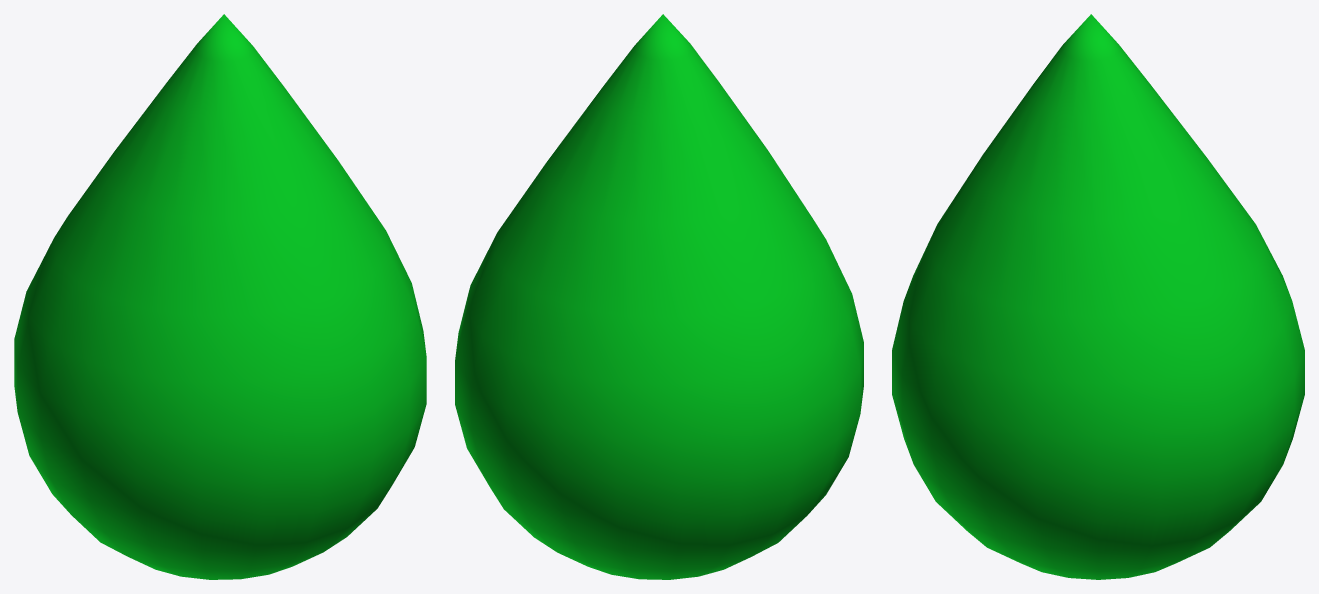
Rendered from acid.fbx.
3 views of the same model, side by side, from view 1: azimuth 30°, elevation 25°; view 2: azimuth 150°, elevation 25°; view 3: azimuth 270°, elevation 25° (orthographic).
Parts seen in each view (by area): view 1: Sphere; view 2: Sphere; view 3: Sphere.
Boxes of the visible parts, bbox=[...] form: Sphere: bbox=[14, 14, 426, 579]; Sphere: bbox=[455, 14, 863, 579]; Sphere: bbox=[892, 14, 1304, 579].
Size of the model in its own units: 199 by 290 by 199.
